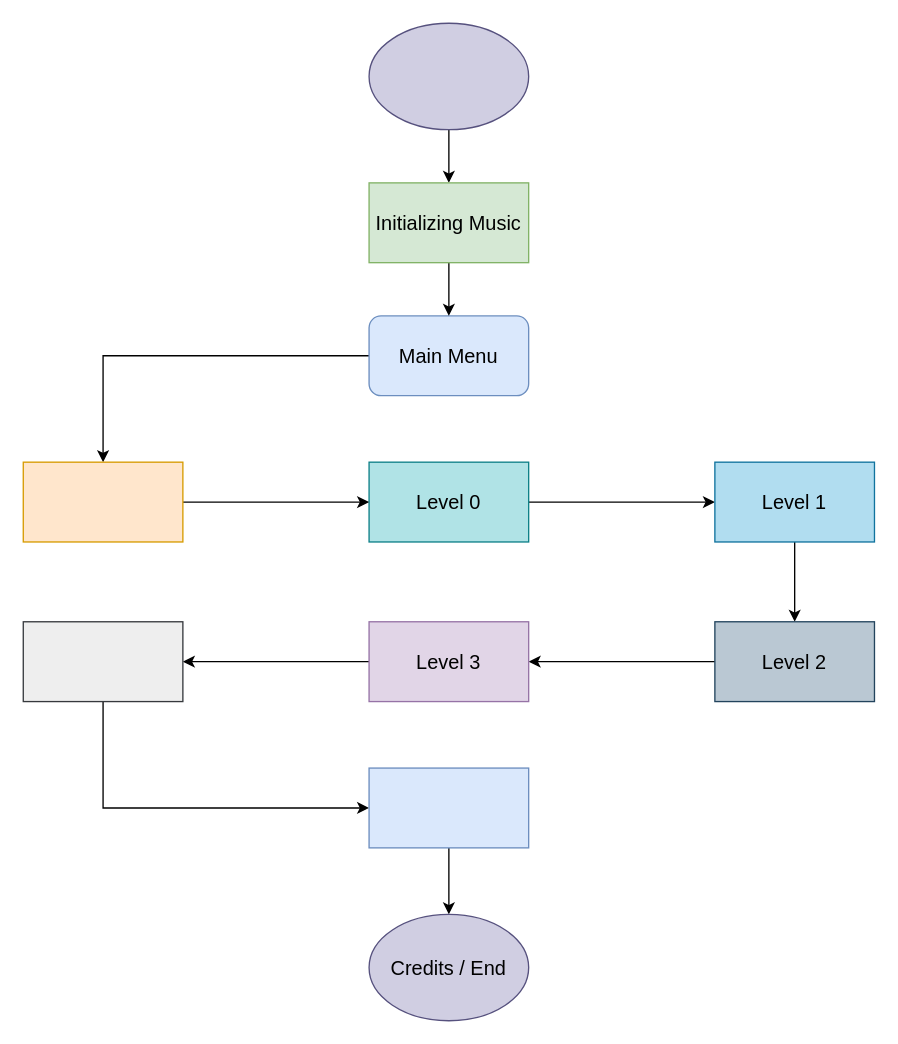
Image size: 898x1044. Some labels were removed from this diagram. Each missing label, with the centre of its shape:
"Final Encounter" belongs at (x=448, y=807).
"GAME START" belongs at (x=448, y=76).
"Level 4" belongs at (x=102, y=661).
"Prologue" belongs at (x=102, y=501).
